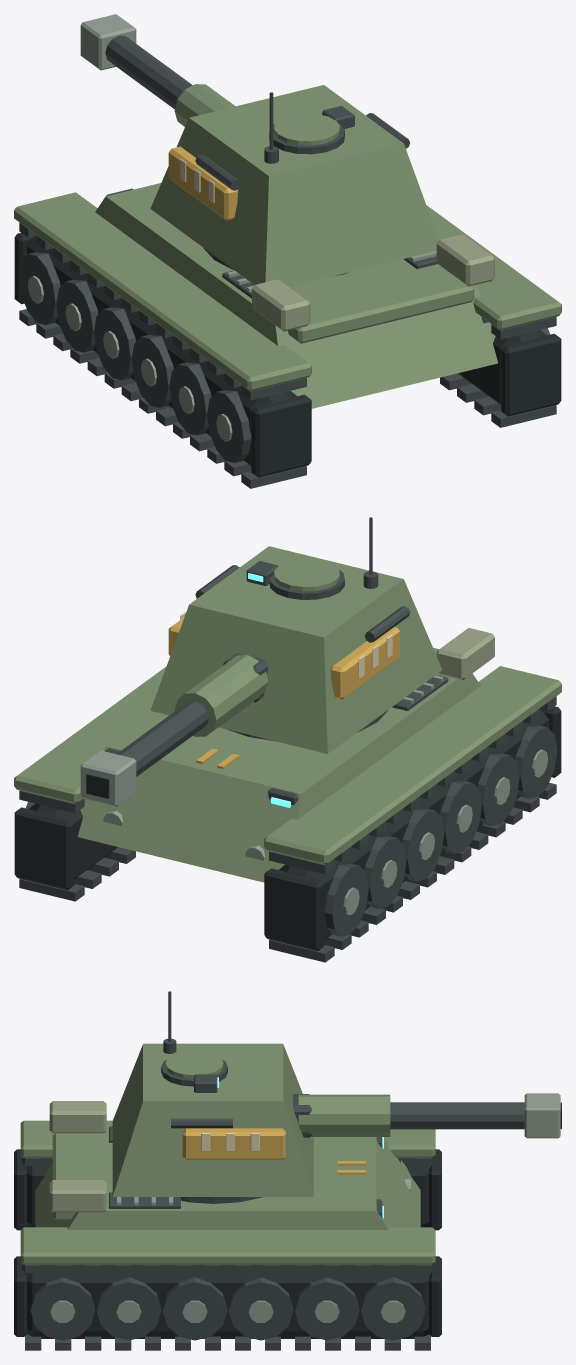
The model's file is tank_goldking_mk2.glb.
3 views of the same model, one above another, from view 1: azimuth 30°, elevation 25°; view 2: azimuth 150°, elevation 25°; view 3: azimuth 270°, elevation 25° (orthographic). The views are drawn at different scales.
Parts seen in each view (by area): view 1: tank_goldking_mk2_TankPaint.005, tank_goldking_mk2_TankPaint.006, tank_goldking_mk2_RunningGear.005, tank_goldking_mk2_TankTracks.005, tank_goldking_mk2_RunningGear.006, tank_goldking_mk2_Canvas.004, tank_goldking_mk2_ArmorEdges.005, tank_goldking_mk2_RoyalTrim.004, tank_goldking_mk2_ArmorEdges.006; view 2: tank_goldking_mk2_TankPaint.005, tank_goldking_mk2_TankPaint.006, tank_goldking_mk2_RunningGear.005, tank_goldking_mk2_TankTracks.005, tank_goldking_mk2_RunningGear.006, tank_goldking_mk2_ArmorEdges.005, tank_goldking_mk2_RoyalTrim.004, tank_goldking_mk2_ArmorEdges.006, tank_goldking_mk2_Canvas.004; view 3: tank_goldking_mk2_TankPaint.005, tank_goldking_mk2_TankPaint.006, tank_goldking_mk2_RunningGear.005, tank_goldking_mk2_TankTracks.005, tank_goldking_mk2_RunningGear.006, tank_goldking_mk2_Canvas.004, tank_goldking_mk2_ArmorEdges.005, tank_goldking_mk2_RoyalTrim.004, tank_goldking_mk2_ArmorEdges.006, tank_goldking_mk2_Markings.004.
Part boxes in pixels (bbox=[...]): tank_goldking_mk2_TankPaint.005: bbox=[14, 183, 561, 408]; tank_goldking_mk2_TankPaint.006: bbox=[150, 84, 438, 286]; tank_goldking_mk2_RunningGear.005: bbox=[18, 188, 556, 488]; tank_goldking_mk2_TankTracks.005: bbox=[14, 233, 561, 477]; tank_goldking_mk2_RunningGear.006: bbox=[105, 35, 409, 275]; tank_goldking_mk2_Canvas.004: bbox=[252, 234, 494, 331]; tank_goldking_mk2_ArmorEdges.005: bbox=[28, 251, 436, 441]; tank_goldking_mk2_RoyalTrim.004: bbox=[168, 146, 238, 220]; tank_goldking_mk2_ArmorEdges.006: bbox=[80, 14, 136, 70]; tank_goldking_mk2_TankPaint.005: bbox=[14, 647, 561, 882]; tank_goldking_mk2_TankPaint.006: bbox=[150, 546, 442, 753]; tank_goldking_mk2_RunningGear.005: bbox=[19, 675, 557, 962]; tank_goldking_mk2_TankTracks.005: bbox=[14, 706, 561, 951]; tank_goldking_mk2_RunningGear.006: bbox=[116, 517, 410, 776]; tank_goldking_mk2_ArmorEdges.005: bbox=[103, 675, 547, 915]; tank_goldking_mk2_RoyalTrim.004: bbox=[168, 617, 399, 699]; tank_goldking_mk2_ArmorEdges.006: bbox=[80, 750, 136, 806]; tank_goldking_mk2_Canvas.004: bbox=[436, 628, 494, 679]; tank_goldking_mk2_TankPaint.005: bbox=[20, 1120, 435, 1264]; tank_goldking_mk2_TankPaint.006: bbox=[112, 1043, 390, 1196]; tank_goldking_mk2_RunningGear.005: bbox=[25, 1126, 430, 1350]; tank_goldking_mk2_TankTracks.005: bbox=[14, 1149, 441, 1338]; tank_goldking_mk2_RunningGear.006: bbox=[161, 991, 524, 1203]; tank_goldking_mk2_Canvas.004: bbox=[49, 1101, 106, 1212]; tank_goldking_mk2_ArmorEdges.005: bbox=[50, 1178, 410, 1322]; tank_goldking_mk2_RoyalTrim.004: bbox=[182, 1128, 285, 1159]; tank_goldking_mk2_ArmorEdges.006: bbox=[524, 1093, 560, 1138]; tank_goldking_mk2_Markings.004: bbox=[201, 1133, 259, 1151].
Bounding box in the file's own units: 2.6 × 2.42 × 4.43.
